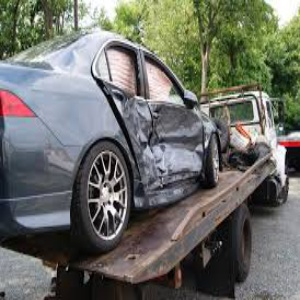door: (134, 113, 201, 190)
